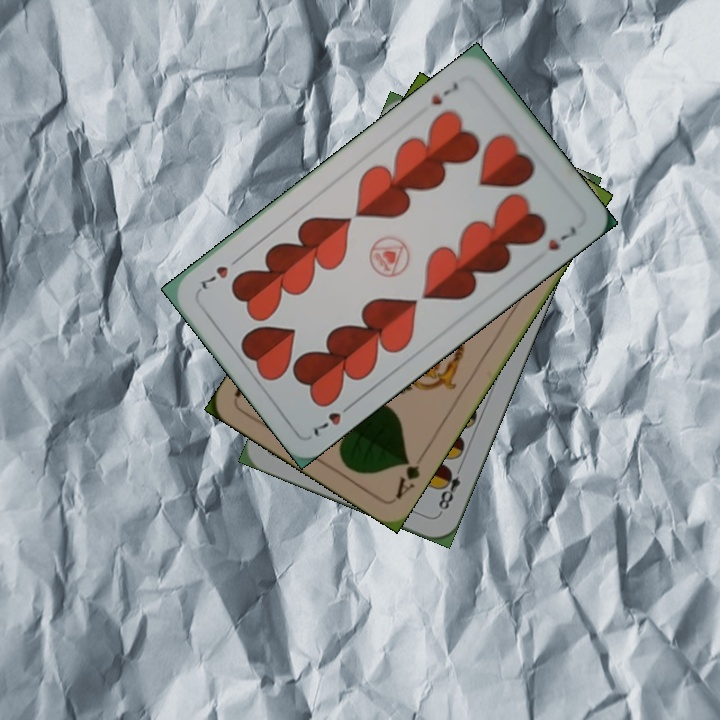E8: (434, 460, 465, 517)
GA: (391, 454, 423, 502)
H7: (309, 398, 357, 440), (427, 78, 462, 108)
